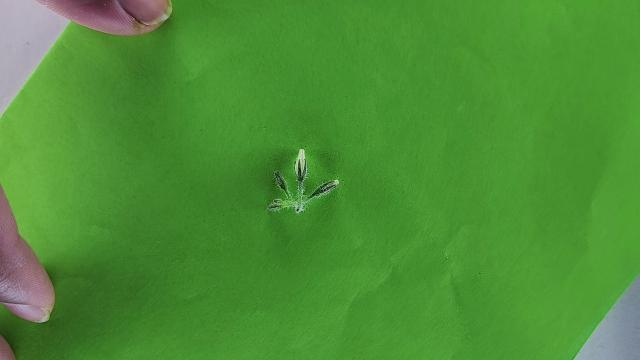Flower Bud: (308, 179, 338, 198), (295, 148, 307, 181), (273, 170, 287, 193), (267, 201, 284, 211)
